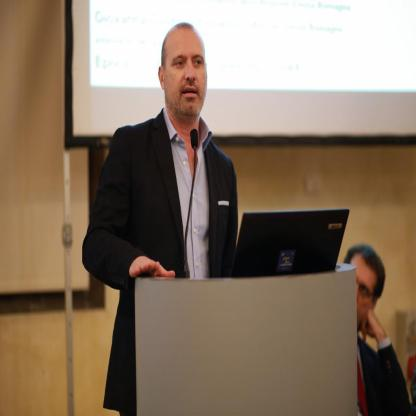board: (221, 208, 350, 278)
